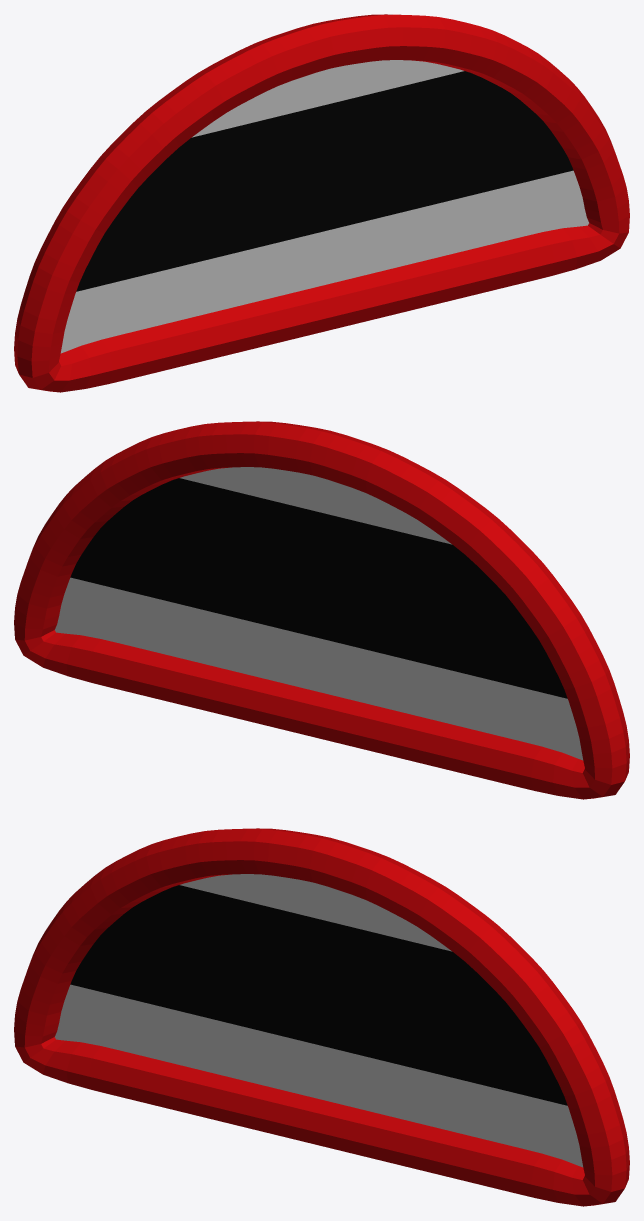
Rendered from item-mouth.obj.
3 renders of one model, top to bottom at view 1: azimuth 30°, elevation 25°; view 2: azimuth 150°, elevation 25°; view 3: azimuth 330°, elevation 25°, orthographic.
Parts seen in each view (by area): view 1: mouth; view 2: mouth; view 3: mouth.
Boxes of the visible parts, x1,y1,x2,y2 form: mouth: (14, 14, 629, 392); mouth: (14, 421, 629, 799); mouth: (14, 828, 629, 1206).
Bounding box in the file's own units: 0.6325 × 0.3029 × 0.0435.
